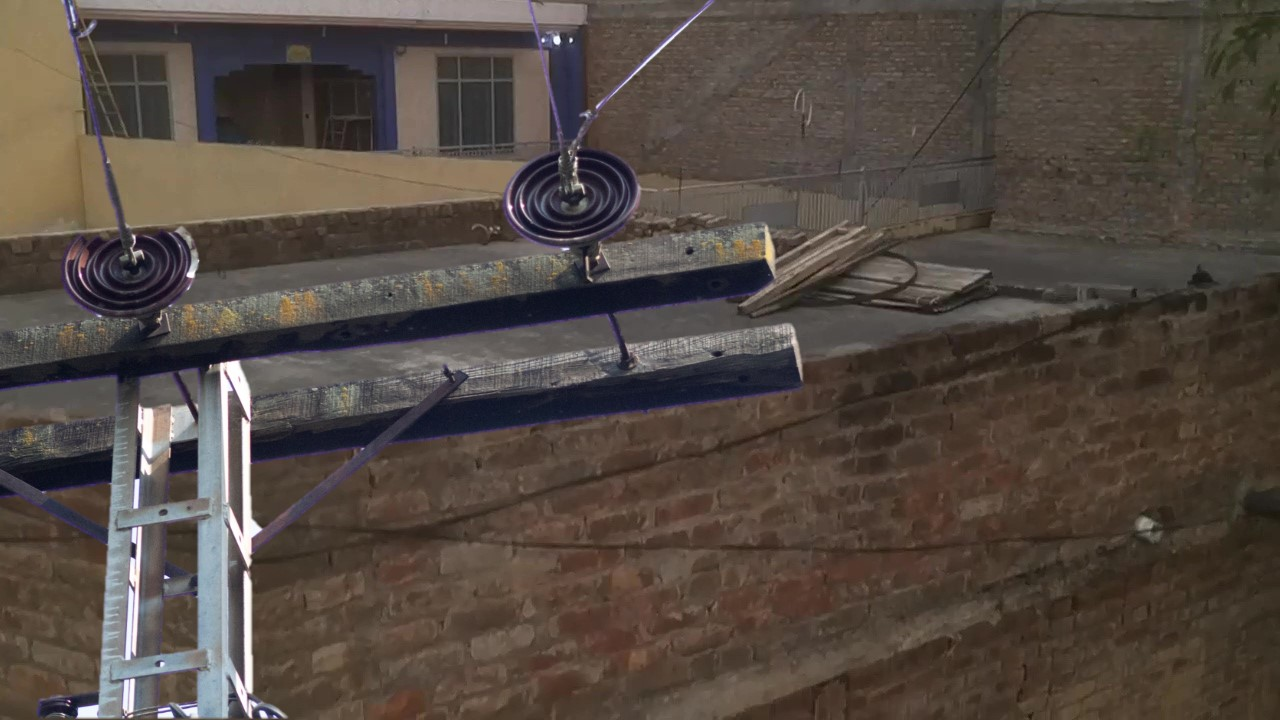defect_disc: (57, 221, 211, 318)
insulator_disc: (501, 144, 647, 250)
